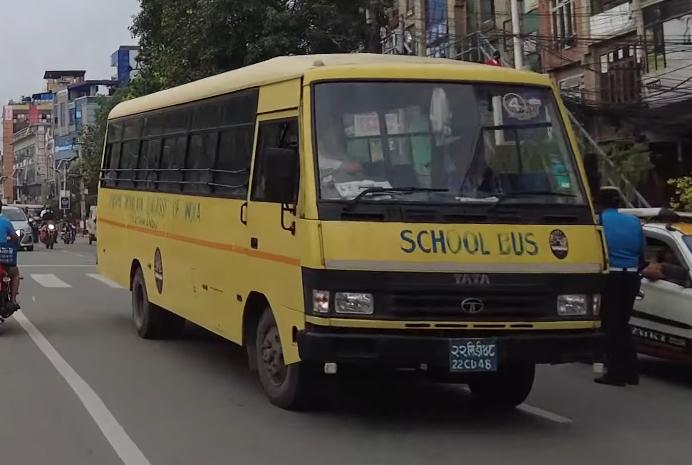bike: (37, 214, 59, 251)
car: (0, 204, 37, 253)
school_bus: (93, 47, 617, 419)
taxi: (603, 205, 692, 367)
